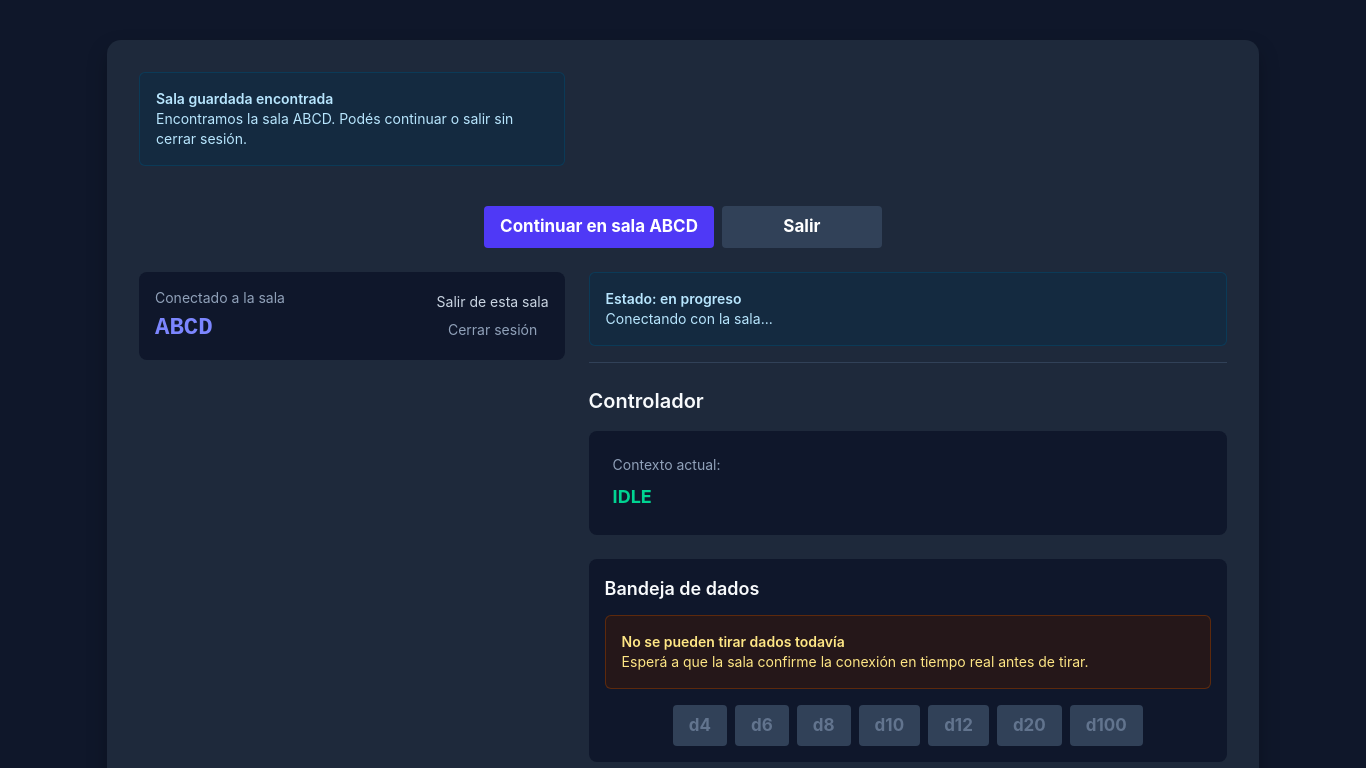
Test: ControllerView auth gating › leaves a connected room without signing out
The image size is (1366, 768).
Click the button "Salir de esta sala" at (493, 302), box [437, 292, 549, 312]
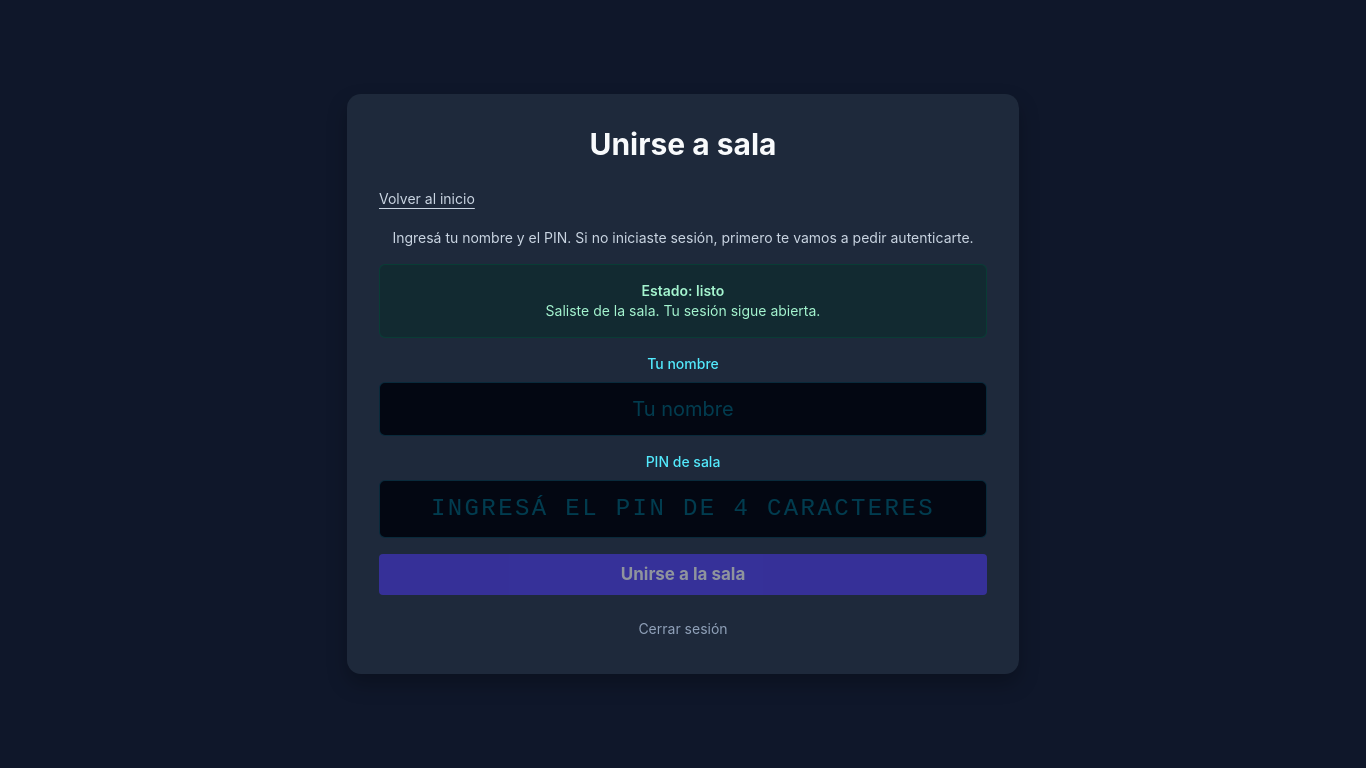
Expected: the heading "Unirse a sala" is shown, [590, 126, 776, 162]
Expected: the text "Saliste de la sala. Tu sesión sigue abierta." is shown, [546, 302, 820, 319]
